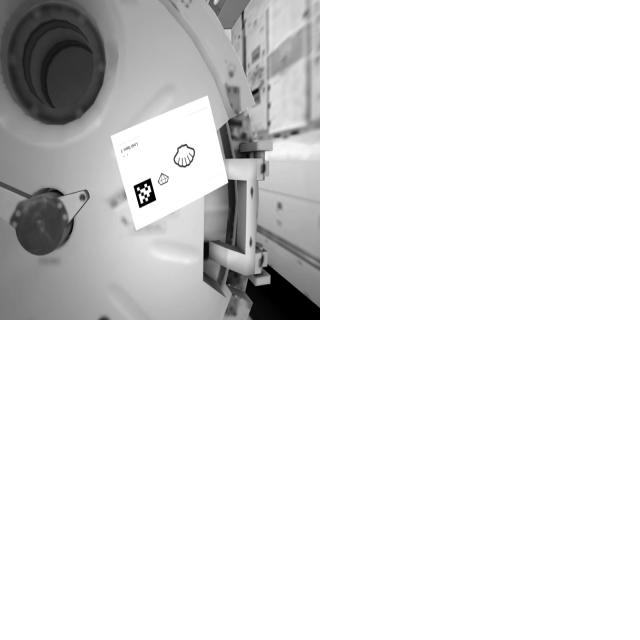diamond: (156, 169, 173, 192)
shell: (172, 143, 204, 175)
